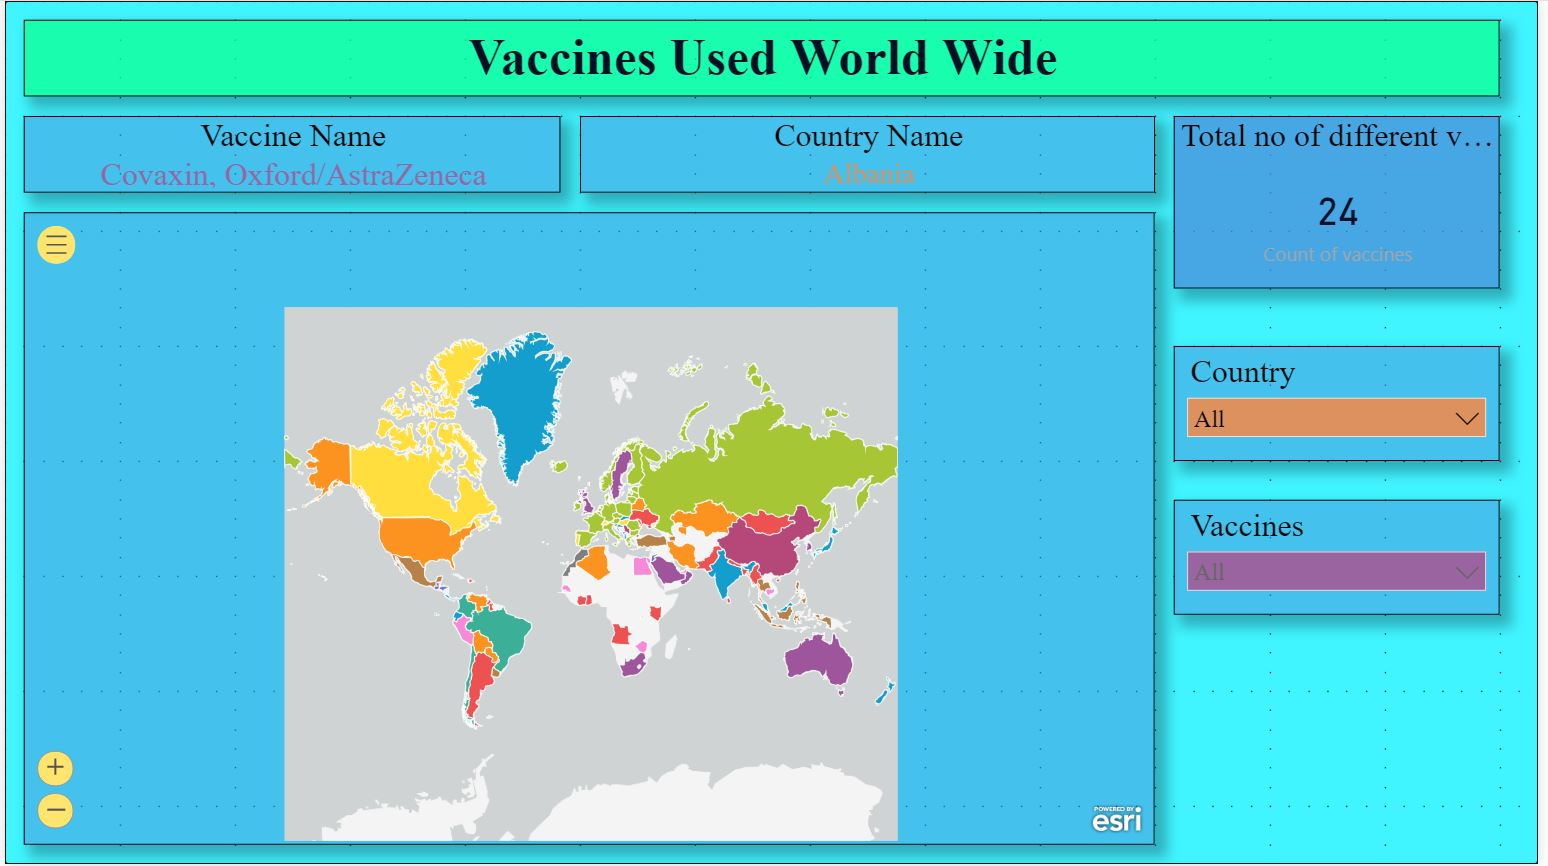

The page's visual inventory and layout, read from the dashboard file:
{"tool":"powerbi","page":{"name":"Vaccines Used World Wide","canvas":[1280,720],"ordinal":3},"visuals":[{"type":"esriVisual","fields":{"Location":["covid_vaccine_data.country"],"Size":["CountNonNull(covid_vaccine_data.vaccines)"],"Color":["covid_vaccine_data.vaccines"]},"box":[16,176,944,528],"z":0},{"type":"card","title":"Vaccine Name","fields":{"Values":["Min(covid_vaccine_data.vaccines)"]},"box":[16,96,448,64],"z":1000},{"type":"textbox","box":[16,16,1232,64],"z":2000},{"type":"slicer","fields":{"Values":["covid_vaccine_data.vaccines"]},"box":[976,416,272,96],"z":3000},{"type":"card","title":"Country Name","fields":{"Values":["Min(covid_vaccine_data.country)"]},"box":[480,96,480,64],"z":4000},{"type":"slicer","fields":{"Values":["covid_vaccine_data.country"]},"box":[976,288,272,96],"z":5000},{"type":"card","title":"Total no of different vaccines present","fields":{"Values":["Count(covid_vaccine_data.vaccines)"]},"box":[976,96,272,144],"z":6000}]}

Visuals, with their boxes in screenshot pixels (x1, y1, x2, y2), scaled from the page's 1280x720 canvas onto the 1548x866 screenshot:
esriVisual - covid_vaccine_data.country x CountNonNull(covid_vaccine_data.vaccines): detection(19, 212, 1161, 847)
"Vaccine Name" card: detection(19, 115, 561, 192)
textbox: detection(19, 19, 1509, 96)
slicer - covid_vaccine_data.vaccines: detection(1180, 500, 1509, 616)
"Country Name" card: detection(580, 115, 1161, 192)
slicer - covid_vaccine_data.country: detection(1180, 346, 1509, 462)
"Total no of different vaccines present" card: detection(1180, 115, 1509, 289)
